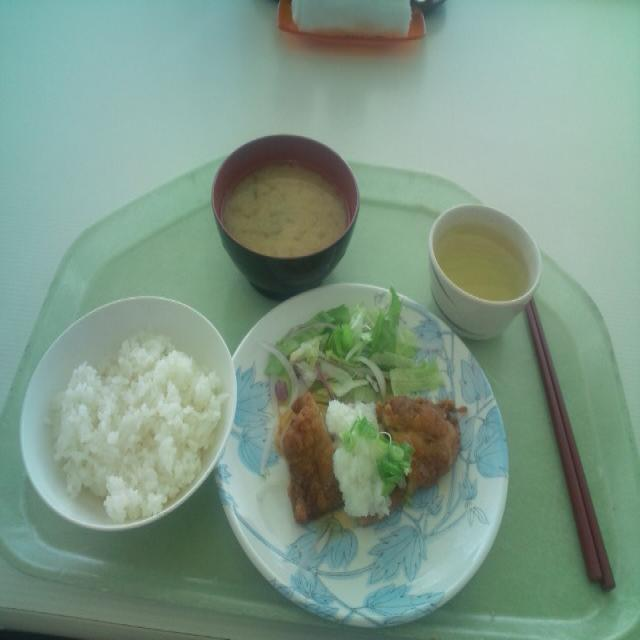Rice: (52, 328, 222, 524)
